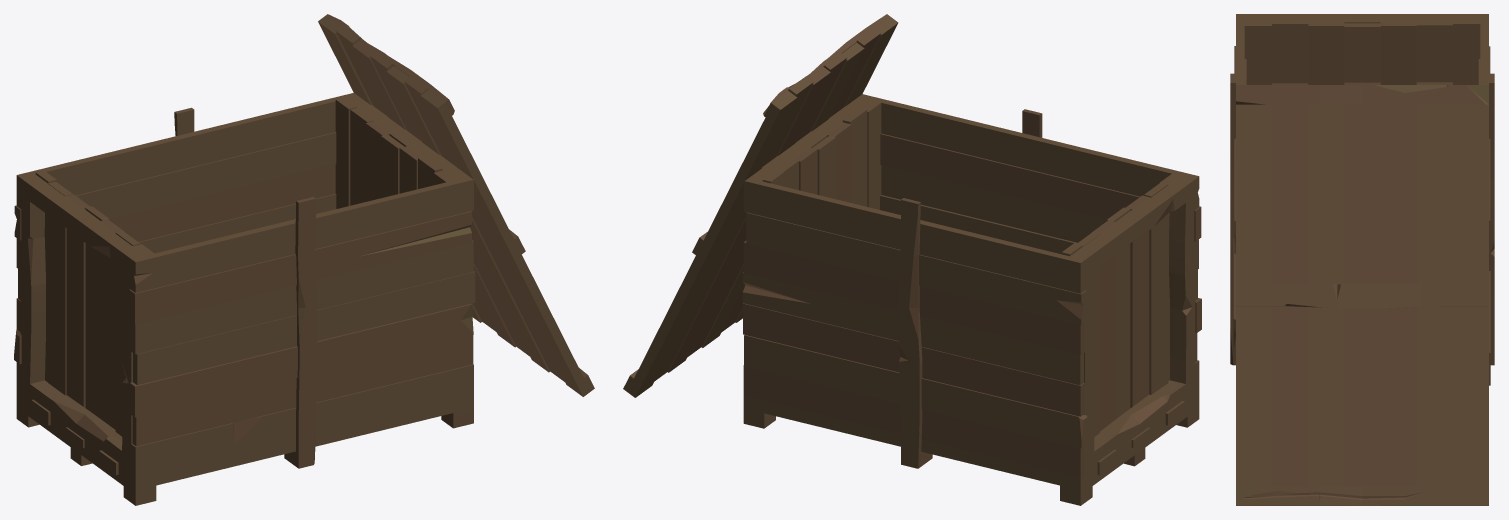
The model's file is SM_Small_Wood_Box_Open.glb.
3 renders of one model, left to right at view 1: azimuth 30°, elevation 25°; view 2: azimuth 150°, elevation 25°; view 3: azimuth 270°, elevation 25°, orthographic. The views are drawn at different scales.
Parts seen in each view (by area): view 1: SM_Small_Wood_Box_Open; view 2: SM_Small_Wood_Box_Open; view 3: SM_Small_Wood_Box_Open.
Part boxes in pixels (left/top/right/bottom): SM_Small_Wood_Box_Open: left=14, top=14, right=594, bottom=505; SM_Small_Wood_Box_Open: left=623, top=14, right=1201, bottom=505; SM_Small_Wood_Box_Open: left=1230, top=14, right=1494, bottom=505.
Bounding box in the file's own units: 1.35 × 0.9214 × 0.6267.
1 material, 1 textured.
